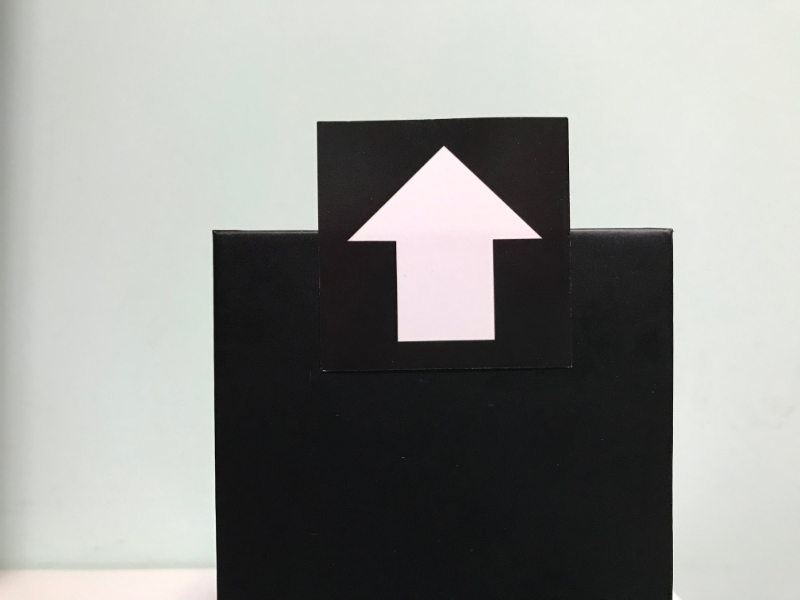UA-1: (322, 124, 566, 365)
